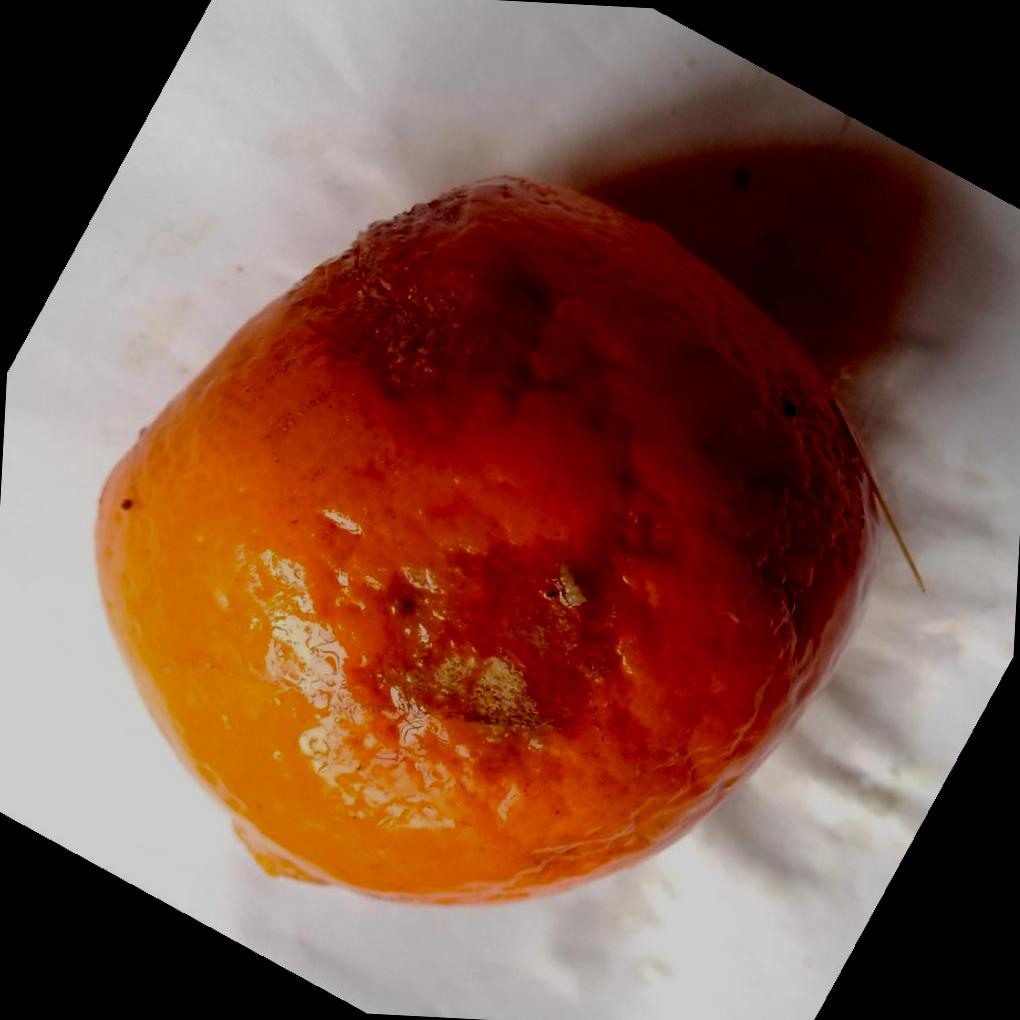FreshOrange: (94, 172, 893, 910)
